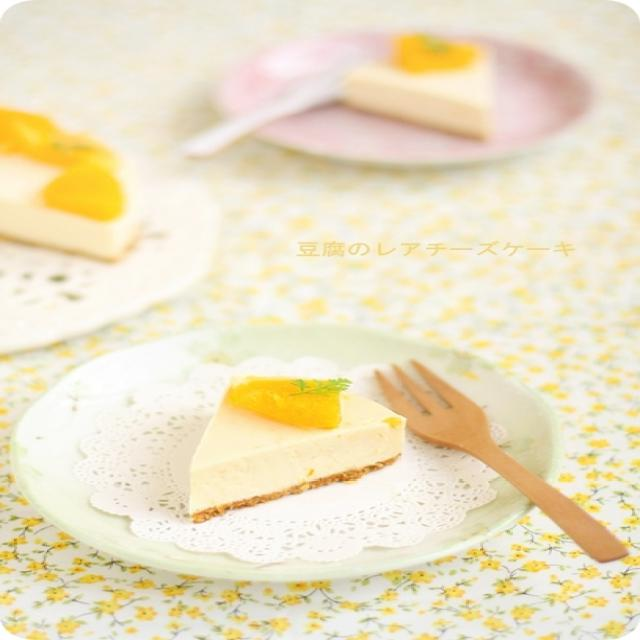蛋糕甜品: (3, 10, 612, 592)
